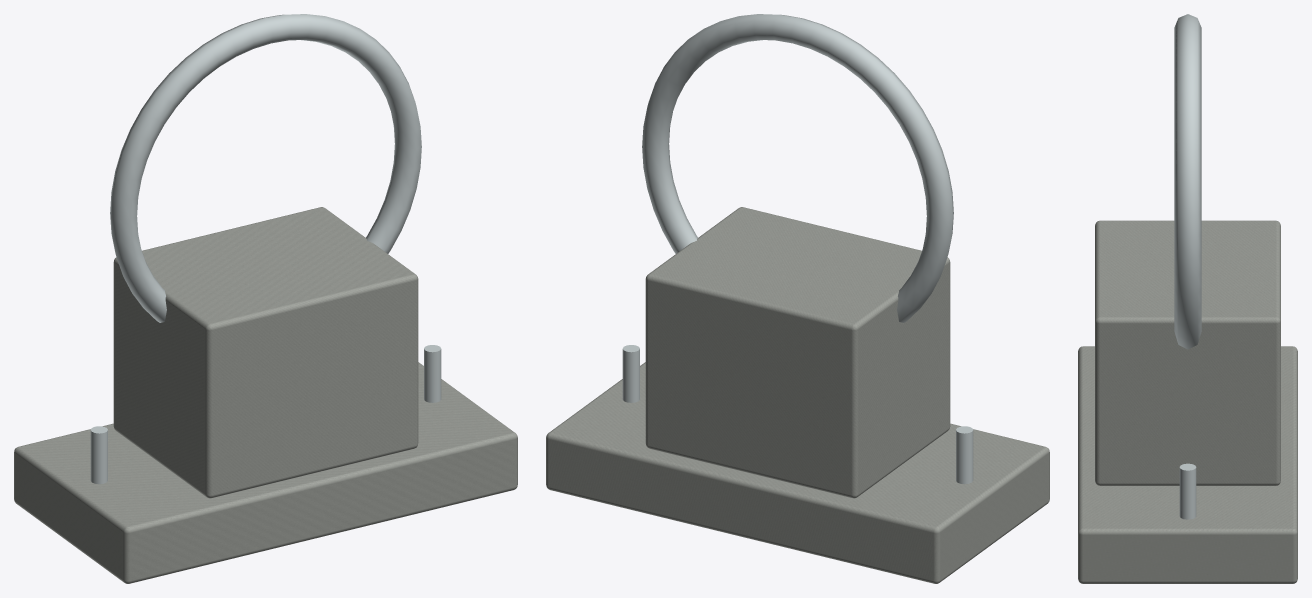
Rendered from hydroelectric-dam-infiltration-penstock-support-d3f7bfad__29342.glb.
3 renders of one model, left to right at view 1: azimuth 30°, elevation 25°; view 2: azimuth 150°, elevation 25°; view 3: azimuth 270°, elevation 25°, orthographic. The views are drawn at different scales.
Visible parts, largest first — view 1: penstock-support; view 2: penstock-support; view 3: penstock-support.
Boxes of the visible parts, x1=… form: penstock-support: x1=14, y1=14, x2=517, y2=583; penstock-support: x1=546, y1=14, x2=1049, y2=583; penstock-support: x1=1078, y1=14, x2=1297, y2=583.
Bounding box in the file's own units: 1.3 × 1.51 × 0.6501.
Materials: 2 (1 with a texture image).
